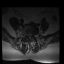CCS_severe_stenosis: (29, 35, 30, 40)
LFS_severe_stenosis: (32, 33, 33, 37)
LLS_severe_stenosis: (30, 34, 31, 38)
RFS_severe_stenosis: (26, 33, 28, 38)
RLS_severe_stenosis: (28, 35, 29, 39)
